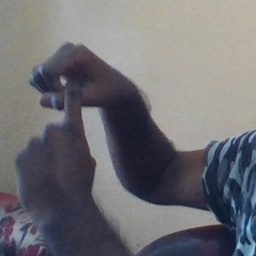Q: (10, 36, 120, 207)
